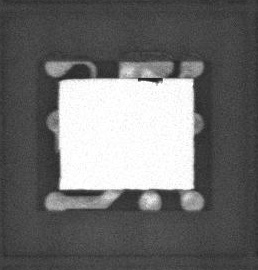DIE_BROKEN: (136, 75, 164, 85)
